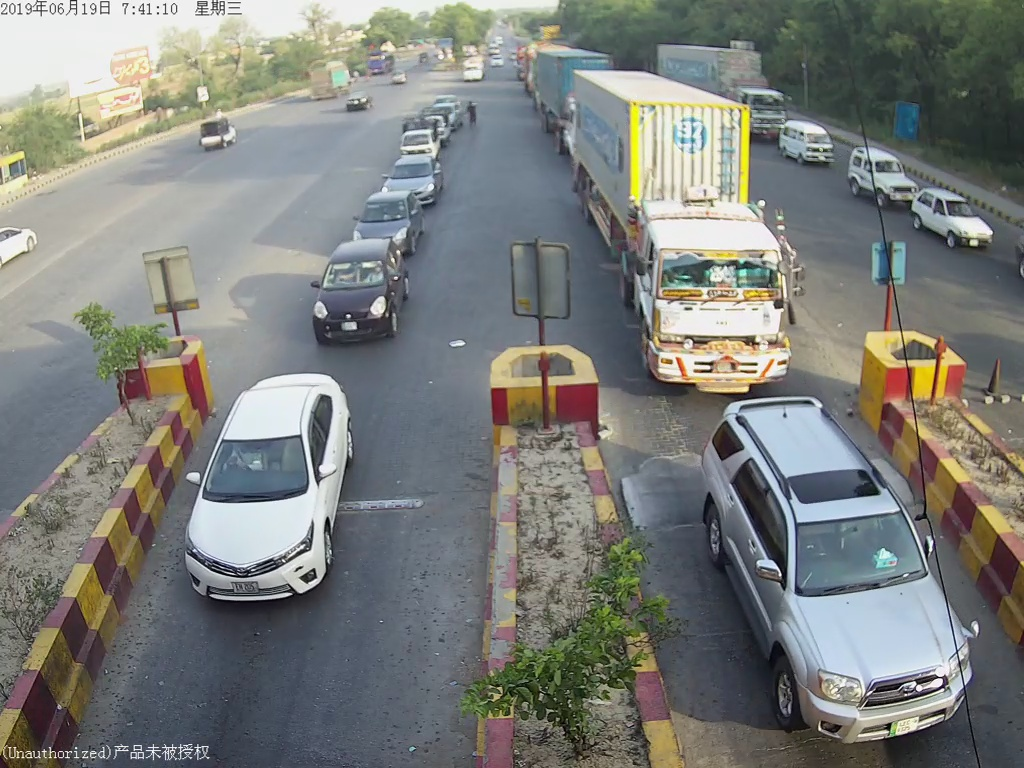Cat-1: (707, 408, 994, 739), (187, 375, 361, 603), (304, 242, 414, 346)
Cat-5: (595, 88, 807, 384)
